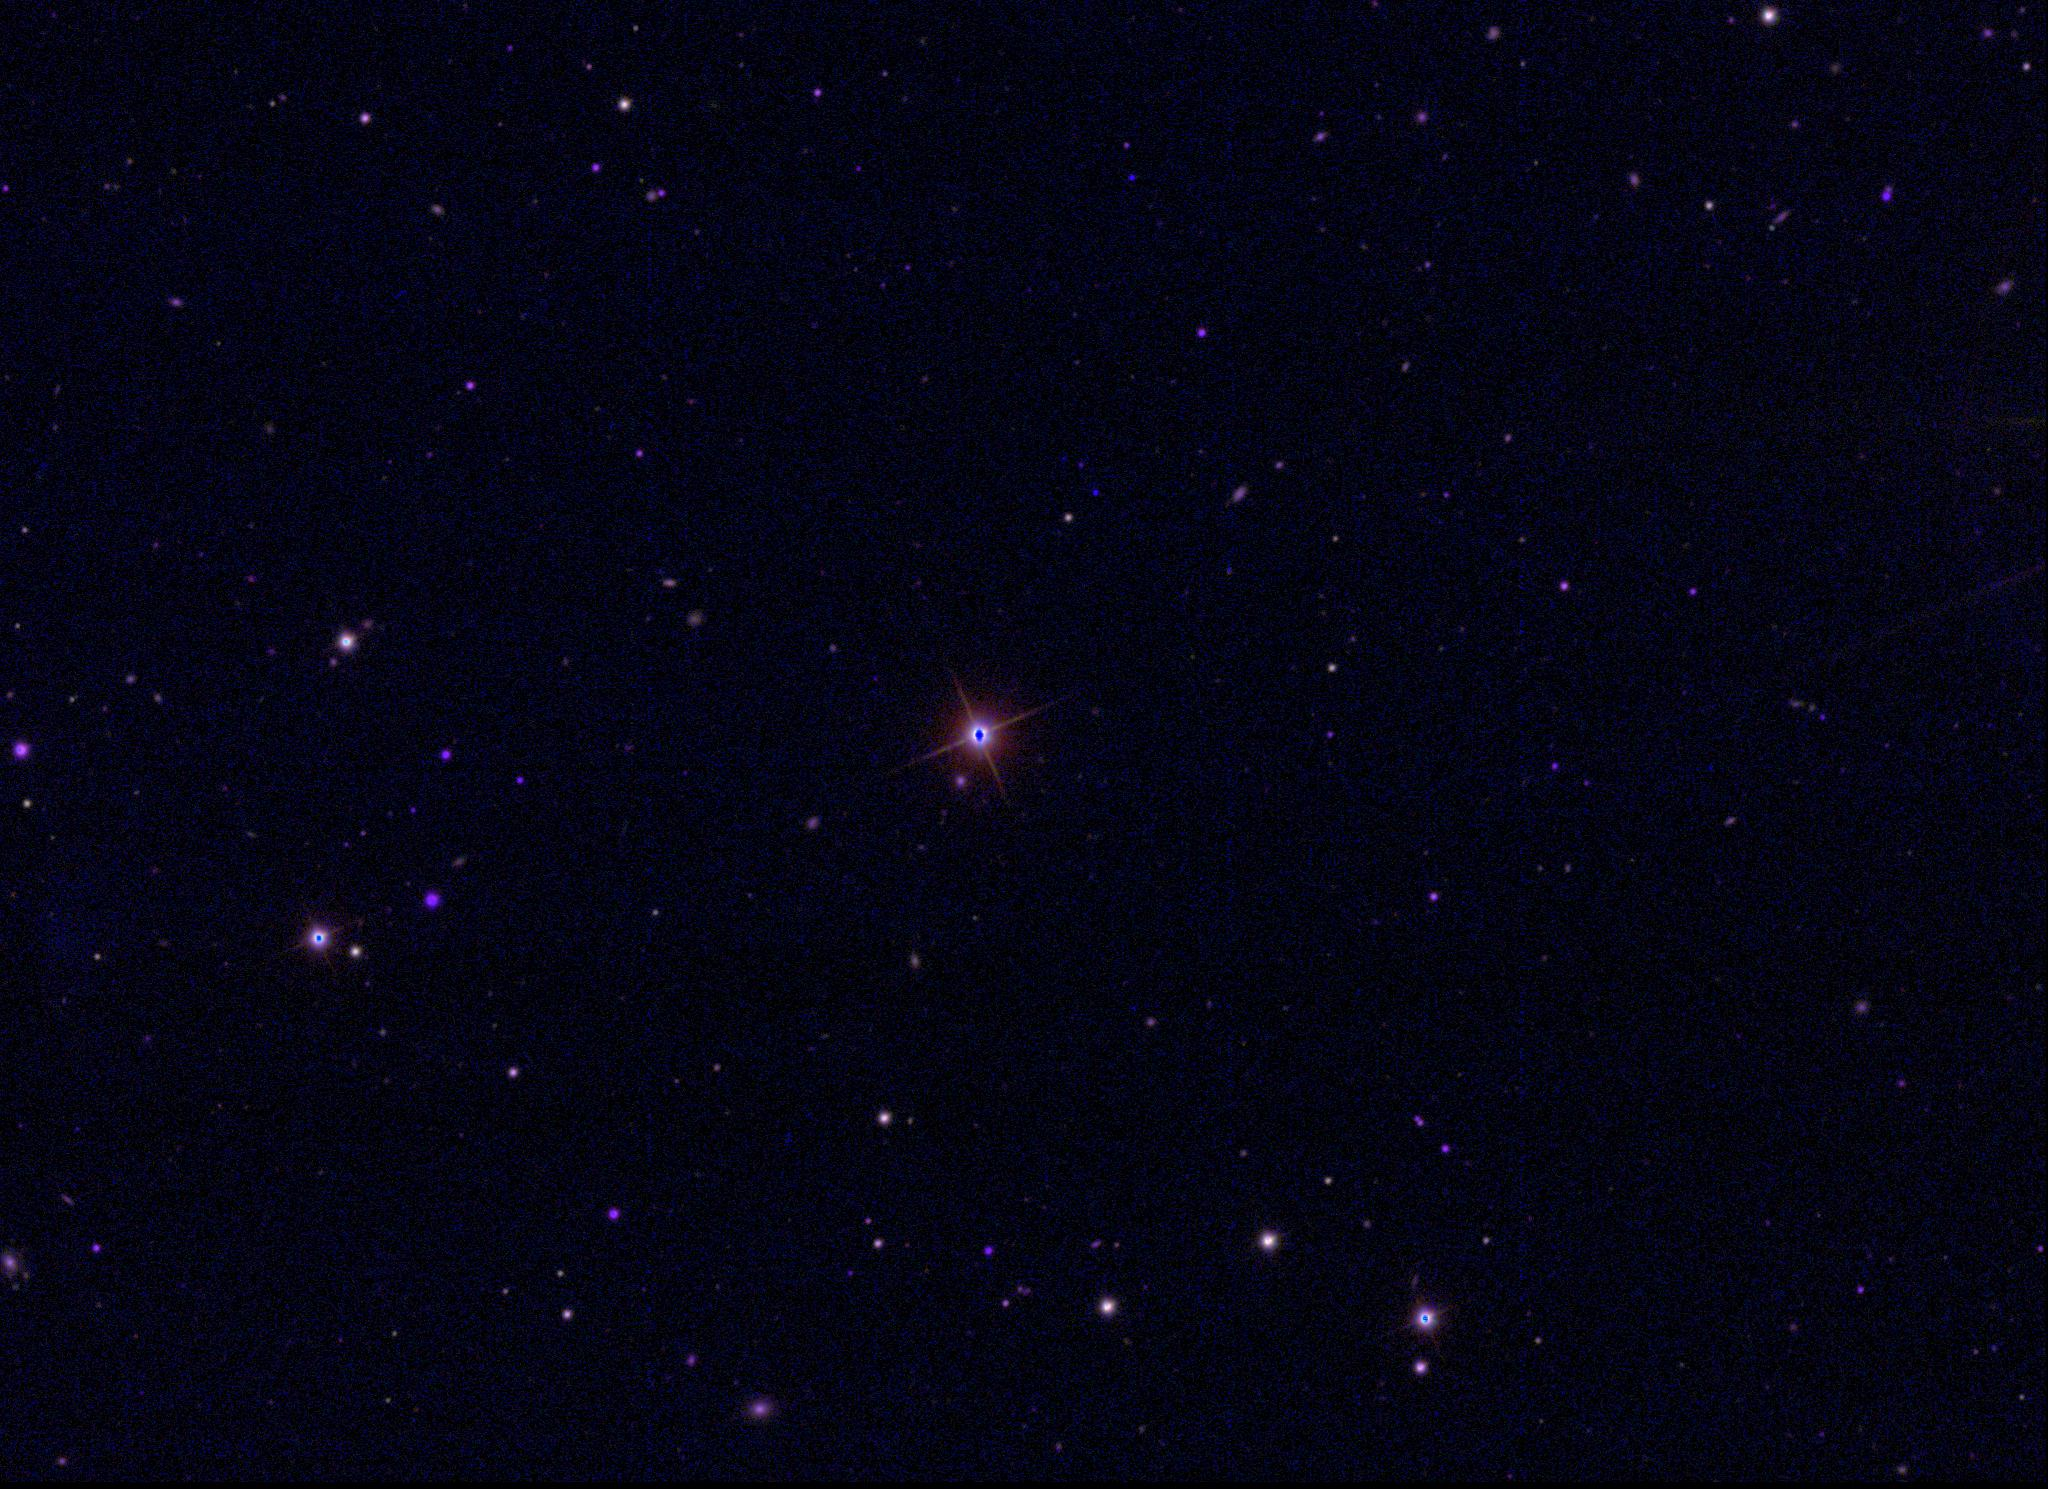L: (1084, 485, 1099, 500)
